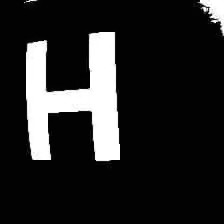LTR_H: (14, 23, 128, 162)
